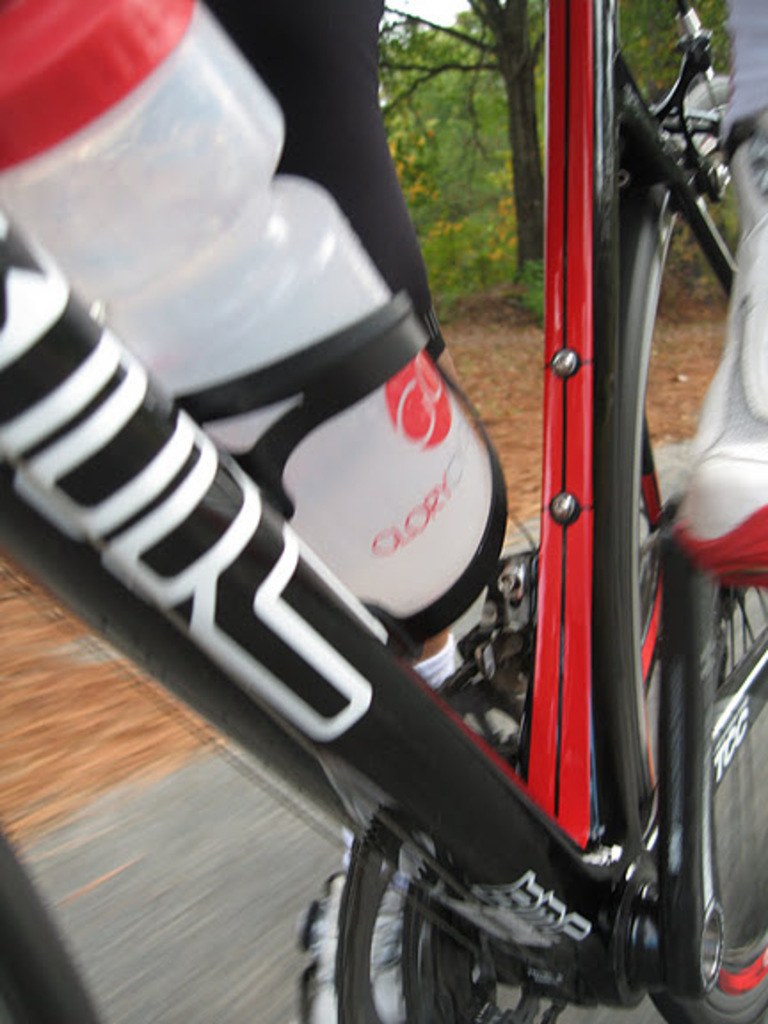Footwear: (676, 110, 766, 587)
